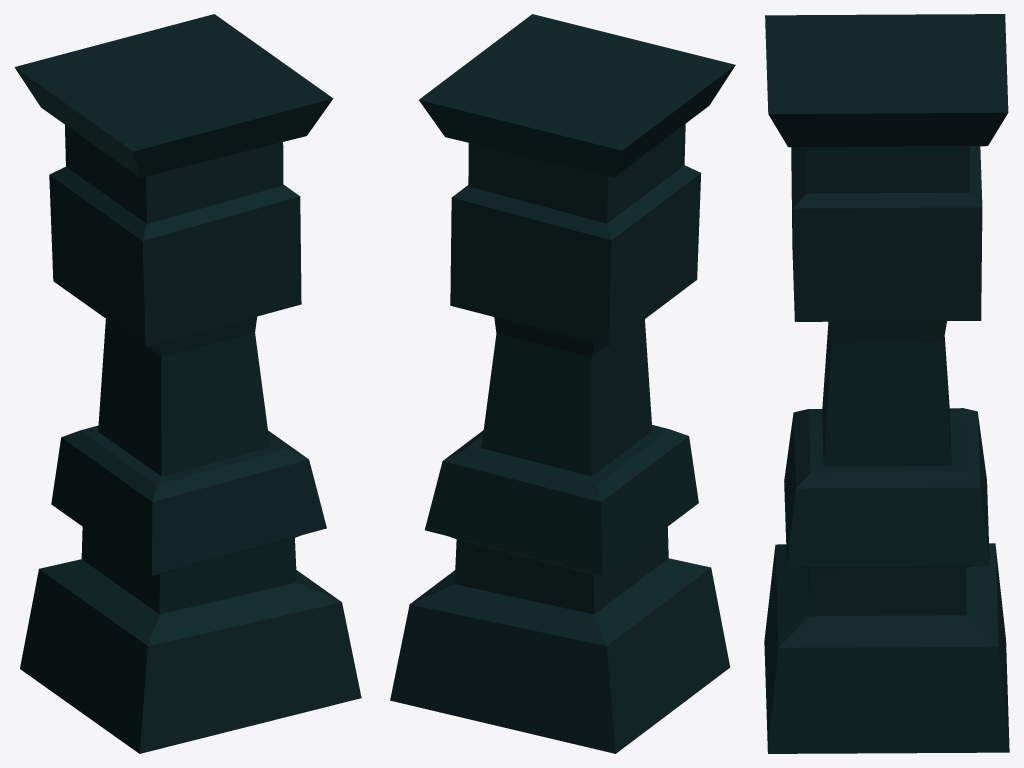
The model's file is column002_stone_0.105_lev1.glb.
The picture shows the model from 3 angles, left to right: view 1: azimuth 30°, elevation 25°; view 2: azimuth 150°, elevation 25°; view 3: azimuth 270°, elevation 25°; orthographic projection. The views are drawn at different scales.
Visible parts, largest first — view 1: column002_stone_0.105_lev1; view 2: column002_stone_0.105_lev1; view 3: column002_stone_0.105_lev1.
Boxes of the visible parts, box(x1,y1,x2,y2) form: column002_stone_0.105_lev1: box(14, 14, 361, 753); column002_stone_0.105_lev1: box(390, 14, 735, 753); column002_stone_0.105_lev1: box(764, 14, 1009, 753).
Size of the model in its own units: 0.6311 by 1.57 by 0.559.
